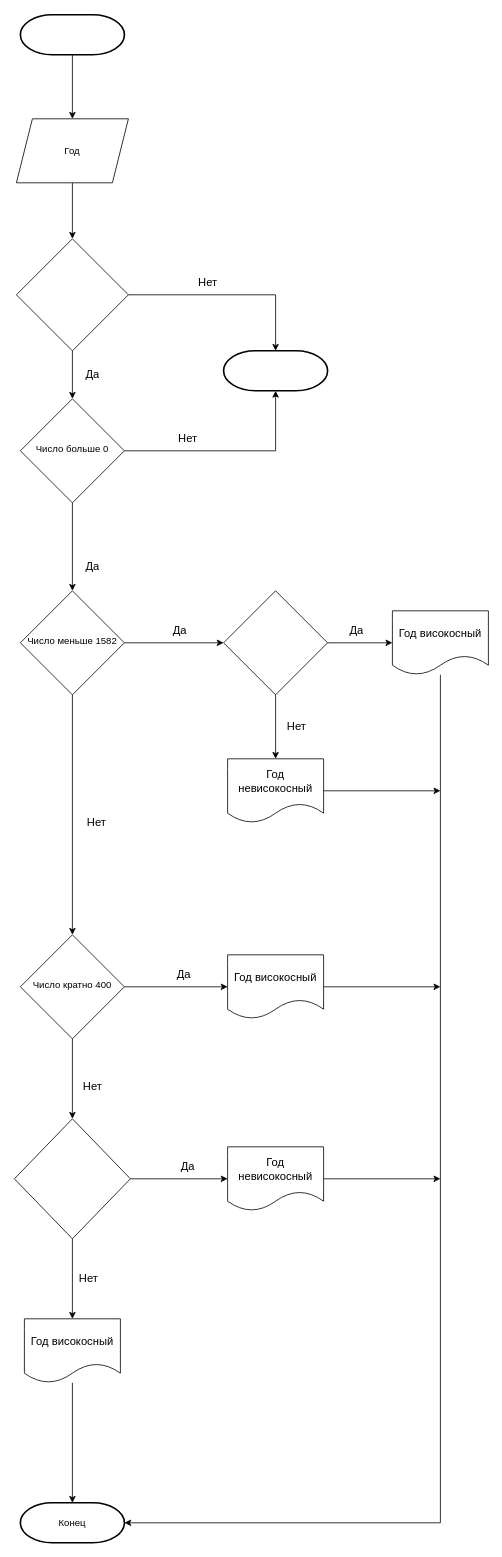
This 502x1557 diagram has some shape labels left out. Each missing label, with the centre of its shape:
Начало: point 72,34
Ошибка, завершение программы: point 275,370
Пользователь ввел число: point 72,294
Число кратно 100 ИЛИ не кратно 4: point 72,1178
Число кратно 4 и больше 7: point 275,642
